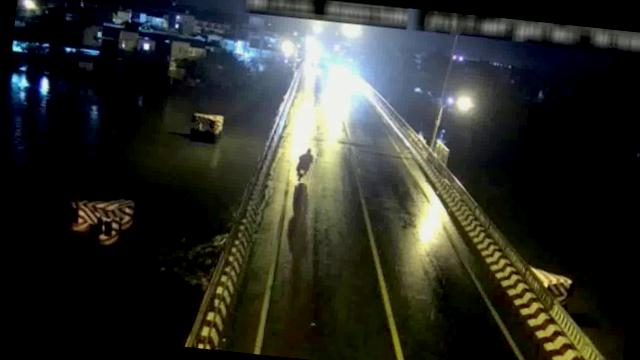Bike: (290, 144, 317, 184)
